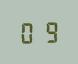nine: (39, 19, 58, 43)
zero: (19, 20, 38, 44)
